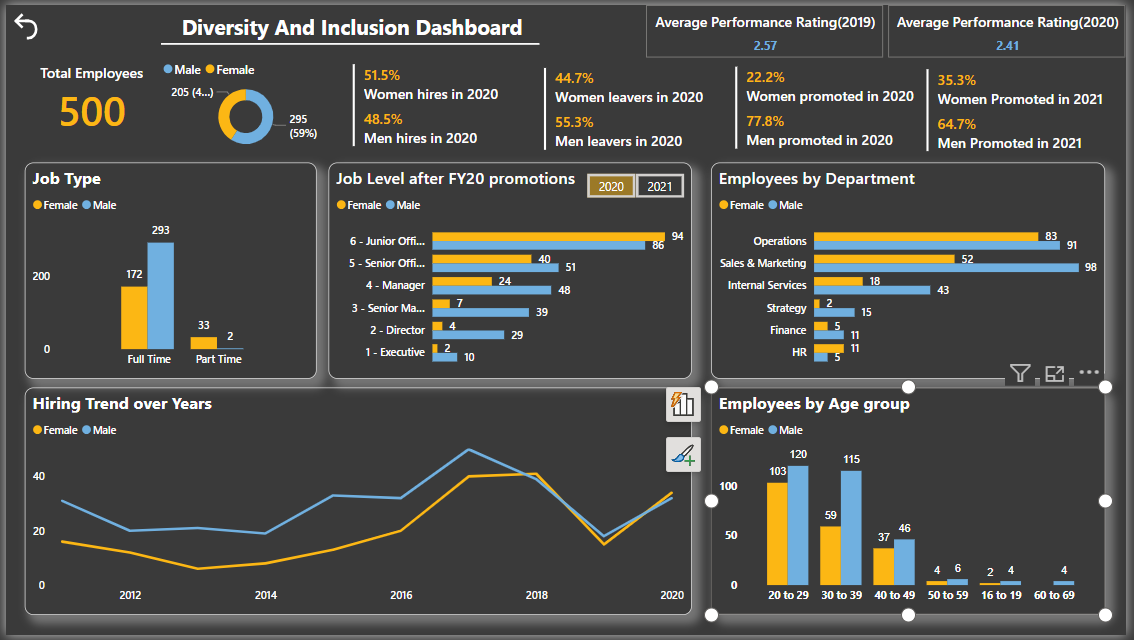

The dashboard page shown, as its layout file describes it:
{"tool":"powerbi","page":{"name":"Home Page","canvas":[1280,720],"ordinal":0},"visuals":[{"type":"donutChart","fields":{"Y":["Measure Table.Total Employees"],"Category":["Pharma Group AG.Gender"]},"box":[175,52.5,200,120],"z":0},{"type":"textbox","box":[195,3.8,415,46.2],"z":1000},{"type":"lineChart","title":"Hiring Trend over Years","fields":{"Series":["Pharma Group AG.Gender"],"Y":["Measure Table.Total Employees"],"Category":["Pharma Group AG.Last hire date.Variation.Date Hierarchy.Year"]},"box":[21.2,437.5,762.5,260],"z":2000},{"type":"clusteredColumnChart","title":"Employees by Age group ","fields":{"Category":["Pharma Group AG.Age group"],"Series":["Pharma Group AG.Gender"],"Y":["CountNonNull(Pharma Group AG.Employee ID)"]},"box":[805,437.5,450,260],"z":3000},{"type":"clusteredColumnChart","title":"Job Type","fields":{"Category":["Pharma Group AG.Time type"],"Y":["Measure Table.Total Employees"],"Series":["Pharma Group AG.Gender"]},"box":[21.2,180,333.8,247.5],"z":4000},{"type":"clusteredBarChart","title":" Job Level after FY20 promotions ","fields":{"Category":["Pharma Group AG.Job Level after FY20 promotions"],"Series":["Pharma Group AG.Gender"],"Y":["Measure Table.Total Employees"]},"box":[368.8,180,415,247.5],"z":5000},{"type":"clusteredBarChart","title":"Employees by Department ","fields":{"Series":["Pharma Group AG.Gender"],"Y":["Measure Table.Total Employees"],"Category":["Pharma Group AG.Last Department in FY20"]},"box":[805,180,450,247.5],"z":6000},{"type":"multiRowCard","fields":{"Values":["Measure Table.% Women hires in 2020","Measure Table.% Men hires in 2020"]},"box":[391.2,62.5,218.8,107.5],"z":7000},{"type":"multiRowCard","fields":{"Values":["Measure Table.% Women leavers in 2020","Measure Table.% Men leavers in 2020"]},"box":[610,67.5,218.8,103.8],"z":8000},{"type":"multiRowCard","fields":{"Values":["Measure Table.% Women promoted in 2020","Measure Table.% Men promoted in 2020"]},"box":[828.8,65,218.8,105],"z":9000},{"type":"cardVisual","fields":{"Data":["Measure Table.Total Employees"]},"box":[21.2,43.8,153.8,127.5],"z":10000},{"type":"multiRowCard","fields":{"Values":["Measure Table.% Women Promoted in 2021","Measure Table.% Men Promoted in 2021"]},"box":[1047.5,68.8,218.8,103.8],"z":11000},{"type":"cardVisual","fields":{"Data":["Measure Table.Average Performance Rating(2019)","Measure Table.Average Performance Rating(2020)"]},"box":[731.2,0,548.8,60],"z":12000},{"type":"shape","box":[177.5,35,432.5,17.5],"z":13000},{"type":"actionButton","box":[2.5,3.8,42.5,40],"z":13001},{"type":"actionButton","box":[720,192.5,55,27.5],"z":13003},{"type":"actionButton","box":[665,192.5,55,27.5],"z":13004}]}

Visuals, with their boxes in screenshot pixels (x1, y1, x2, y2), scaled from the page's 1280x720 canvas onto the 1134x640 screenshot:
donutChart - Measure Table.Total Employees x Pharma Group AG.Gender: {"x1": 155, "y1": 47, "x2": 332, "y2": 153}
textbox: {"x1": 173, "y1": 3, "x2": 540, "y2": 44}
"Hiring Trend over Years" lineChart: {"x1": 19, "y1": 389, "x2": 694, "y2": 620}
"Employees by Age group " clusteredColumnChart: {"x1": 713, "y1": 389, "x2": 1112, "y2": 620}
"Job Type" clusteredColumnChart: {"x1": 19, "y1": 160, "x2": 315, "y2": 380}
" Job Level after FY20 promotions " clusteredBarChart: {"x1": 327, "y1": 160, "x2": 694, "y2": 380}
"Employees by Department " clusteredBarChart: {"x1": 713, "y1": 160, "x2": 1112, "y2": 380}
multiRowCard - Measure Table.% Women hires in 2020 x Measure Table.% Men hires in 2020: {"x1": 347, "y1": 56, "x2": 540, "y2": 151}
multiRowCard - Measure Table.% Women leavers in 2020 x Measure Table.% Men leavers in 2020: {"x1": 540, "y1": 60, "x2": 734, "y2": 152}
multiRowCard - Measure Table.% Women promoted in 2020 x Measure Table.% Men promoted in 2020: {"x1": 734, "y1": 58, "x2": 928, "y2": 151}
cardVisual - Measure Table.Total Employees: {"x1": 19, "y1": 39, "x2": 155, "y2": 152}
multiRowCard - Measure Table.% Women Promoted in 2021 x Measure Table.% Men Promoted in 2021: {"x1": 928, "y1": 61, "x2": 1122, "y2": 153}
cardVisual - Measure Table.Average Performance Rating(2019) x Measure Table.Average Performance Rating(2020): {"x1": 648, "y1": 0, "x2": 1133, "y2": 53}
shape: {"x1": 157, "y1": 31, "x2": 540, "y2": 47}
actionButton: {"x1": 2, "y1": 3, "x2": 40, "y2": 39}
actionButton: {"x1": 638, "y1": 171, "x2": 687, "y2": 196}
actionButton: {"x1": 589, "y1": 171, "x2": 638, "y2": 196}
